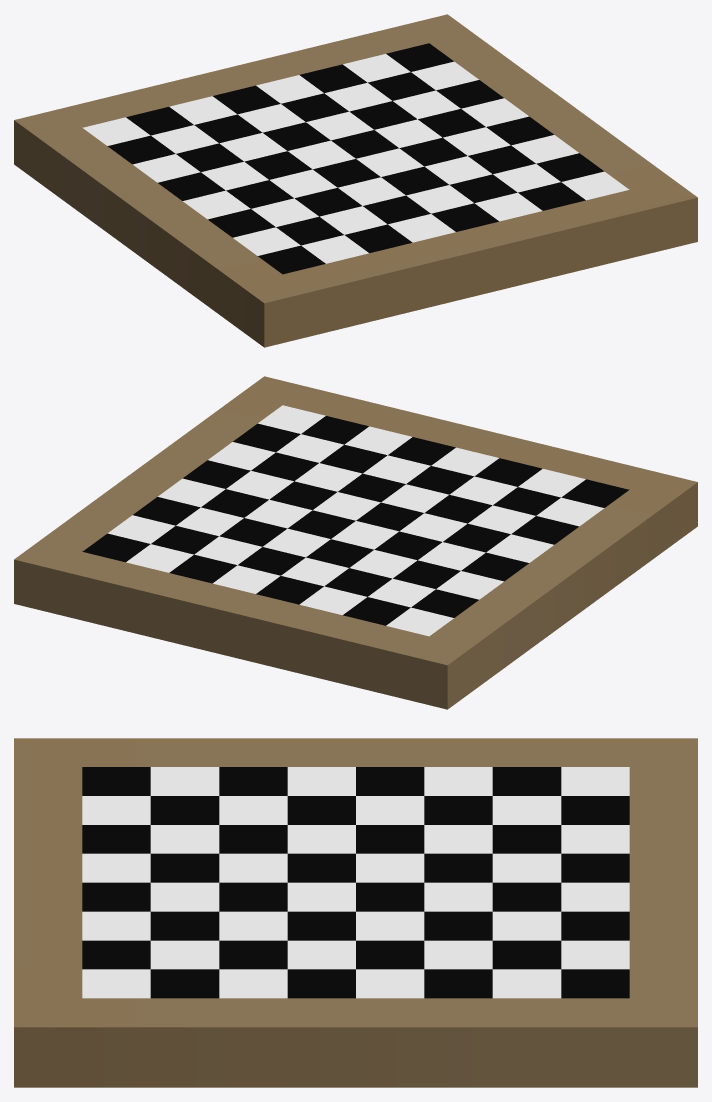
File: jeu en bois.fbx
3 views of the same model, one above another, from view 1: azimuth 30°, elevation 25°; view 2: azimuth 150°, elevation 25°; view 3: azimuth 270°, elevation 25° (orthographic). The views are drawn at different scales.
Visible parts, largest first — view 1: Cube.044; view 2: Cube.044; view 3: Cube.044.
Part boxes in pixels (<box>): Cube.044: <box>14,14,697,347</box>; Cube.044: <box>14,376,697,709</box>; Cube.044: <box>14,738,697,1087</box>.
Bounding box in the file's own units: 36.77 × 36.77 × 3.59.
